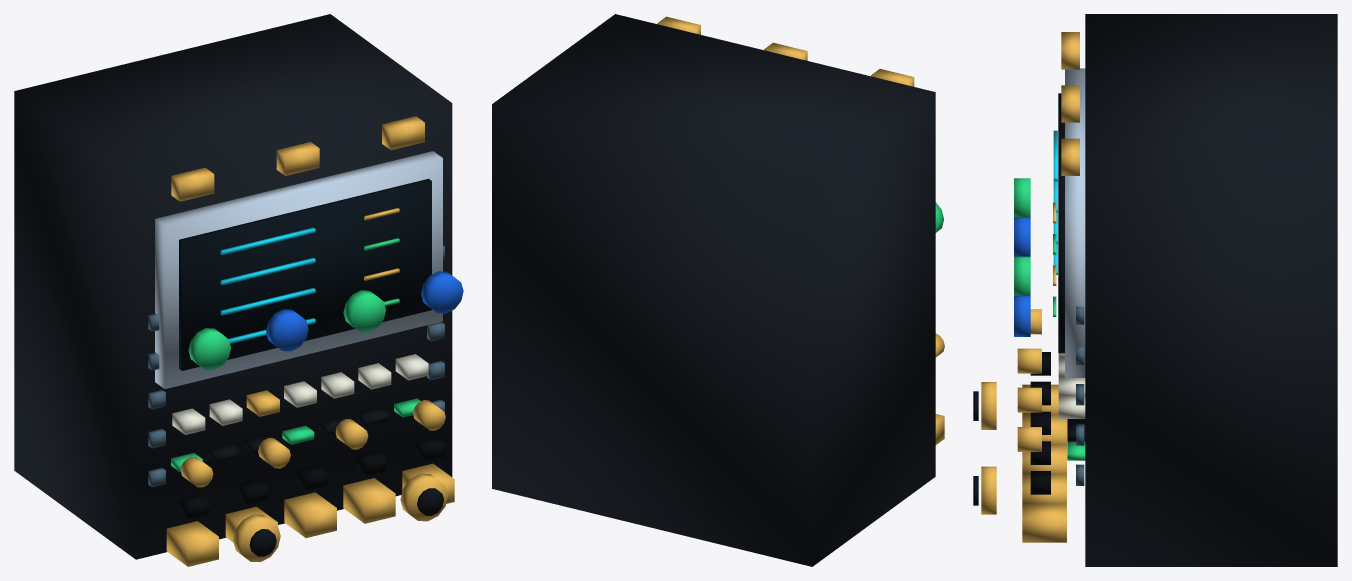
The model's file is 84_L93_AnalyticalPowerDistribution.fbx.
3 renders of one model, left to right at view 1: azimuth 30°, elevation 25°; view 2: azimuth 150°, elevation 25°; view 3: azimuth 270°, elevation 25°, orthographic. The views are drawn at different scales.
Visible parts, largest first — view 1: L92_AnalyticalPowerDistribution_Part_0000, L92_AnalyticalPowerDistribution_Part_0002, L92_AnalyticalPowerDistribution_Part_0001, L92_AnalyticalPowerDistribution_Part_0004, L92_AnalyticalPowerDistribution_Part_0006, L92_AnalyticalPowerDistribution_Part_0005, L92_AnalyticalPowerDistribution_Part_0009, L92_AnalyticalPowerDistribution_Part_0010, L92_AnalyticalPowerDistribution_Part_0003, L92_AnalyticalPowerDistribution_Part_0008, L92_AnalyticalPowerDistribution_Part_0007, L92_AnalyticalPowerDistribution_Part_0014 (+3 smaller); view 2: L92_AnalyticalPowerDistribution_Part_0000, L92_AnalyticalPowerDistribution_Part_0004; view 3: L92_AnalyticalPowerDistribution_Part_0000, L92_AnalyticalPowerDistribution_Part_0004, L92_AnalyticalPowerDistribution_Part_0001, L92_AnalyticalPowerDistribution_Part_0005, L92_AnalyticalPowerDistribution_Part_0009, L92_AnalyticalPowerDistribution_Part_0002, L92_AnalyticalPowerDistribution_Part_0010, L92_AnalyticalPowerDistribution_Part_0006, L92_AnalyticalPowerDistribution_Part_0008, L92_AnalyticalPowerDistribution_Part_0016, L92_AnalyticalPowerDistribution_Part_0014, L92_AnalyticalPowerDistribution_Part_0003.
Boxes of the visible parts, left/top/right/bottom form: L92_AnalyticalPowerDistribution_Part_0000: left=14, top=14, right=452, bottom=559; L92_AnalyticalPowerDistribution_Part_0002: left=179, top=178, right=431, bottom=370; L92_AnalyticalPowerDistribution_Part_0001: left=155, top=151, right=442, bottom=388; L92_AnalyticalPowerDistribution_Part_0004: left=166, top=116, right=454, bottom=566; L92_AnalyticalPowerDistribution_Part_0006: left=172, top=354, right=428, bottom=434; L92_AnalyticalPowerDistribution_Part_0005: left=171, top=238, right=420, bottom=471; L92_AnalyticalPowerDistribution_Part_0009: left=179, top=436, right=445, bottom=518; L92_AnalyticalPowerDistribution_Part_0010: left=266, top=271, right=463, bottom=351; L92_AnalyticalPowerDistribution_Part_0003: left=220, top=227, right=315, bottom=343; L92_AnalyticalPowerDistribution_Part_0008: left=148, top=245, right=444, bottom=487; L92_AnalyticalPowerDistribution_Part_0007: left=208, top=407, right=388, bottom=462; L92_AnalyticalPowerDistribution_Part_0014: left=233, top=514, right=280, bottom=562; L92_AnalyticalPowerDistribution_Part_0000: left=492, top=14, right=935, bottom=566; L92_AnalyticalPowerDistribution_Part_0004: left=657, top=16, right=944, bottom=444; L92_AnalyticalPowerDistribution_Part_0000: left=1085, top=14, right=1337, bottom=566; L92_AnalyticalPowerDistribution_Part_0004: left=1017, top=32, right=1079, bottom=542; L92_AnalyticalPowerDistribution_Part_0001: left=1065, top=68, right=1085, bottom=377; L92_AnalyticalPowerDistribution_Part_0005: left=1014, top=178, right=1085, bottom=460; L92_AnalyticalPowerDistribution_Part_0009: left=1030, top=352, right=1050, bottom=494; L92_AnalyticalPowerDistribution_Part_0002: left=1058, top=93, right=1064, bottom=353; L92_AnalyticalPowerDistribution_Part_0010: left=1014, top=217, right=1030, bottom=336; L92_AnalyticalPowerDistribution_Part_0006: left=1058, top=353, right=1085, bottom=418; L92_AnalyticalPowerDistribution_Part_0008: left=1076, top=306, right=1084, bottom=485; L92_AnalyticalPowerDistribution_Part_0016: left=981, top=466, right=996, bottom=514; L92_AnalyticalPowerDistribution_Part_0014: left=981, top=382, right=996, bottom=429; L92_AnalyticalPowerDistribution_Part_0003: left=1053, top=130, right=1057, bottom=274.
Bounding box in the file's own units: 102 × 117 × 98.2.
